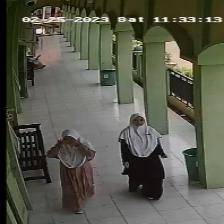HijabSyar-i: (47, 129, 96, 169), (119, 113, 163, 157)
